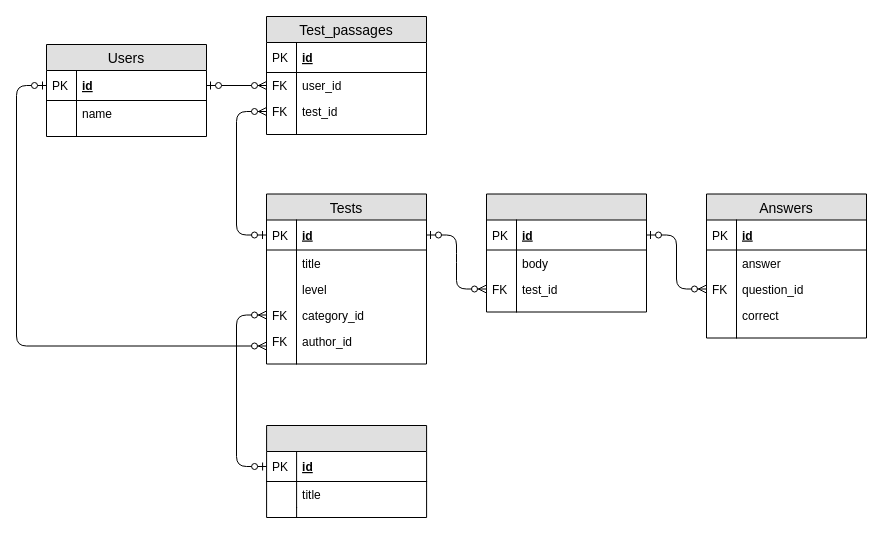
This 883x534 diagram has some shape labels left out. The box of each missing label's shape, as (x1, y1, x2, y2) in pixels:
Categories: (266, 424, 427, 518)
Questions: (486, 193, 646, 312)
